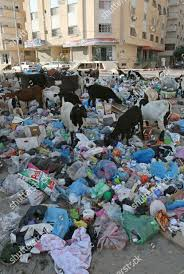garbage: (4, 145, 184, 250), (3, 114, 58, 142), (116, 83, 157, 97)
